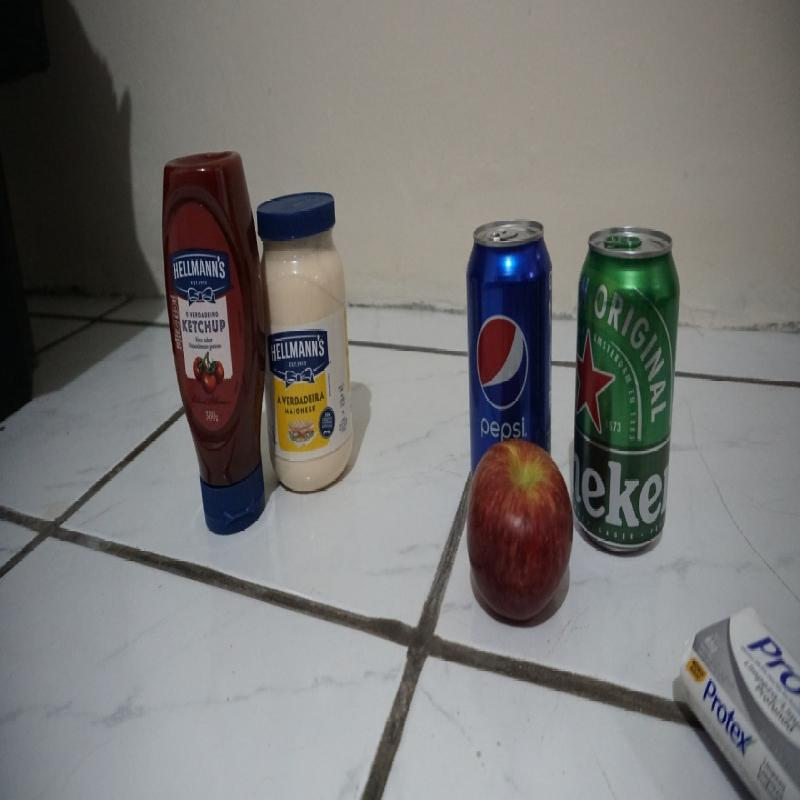Apple: (464, 433, 575, 632)
Beer can: (573, 216, 680, 552)
Ketchup: (160, 155, 266, 530)
Mayonnaise: (255, 178, 360, 500)
Soap: (680, 599, 800, 800)
Soda can: (463, 221, 560, 453)
